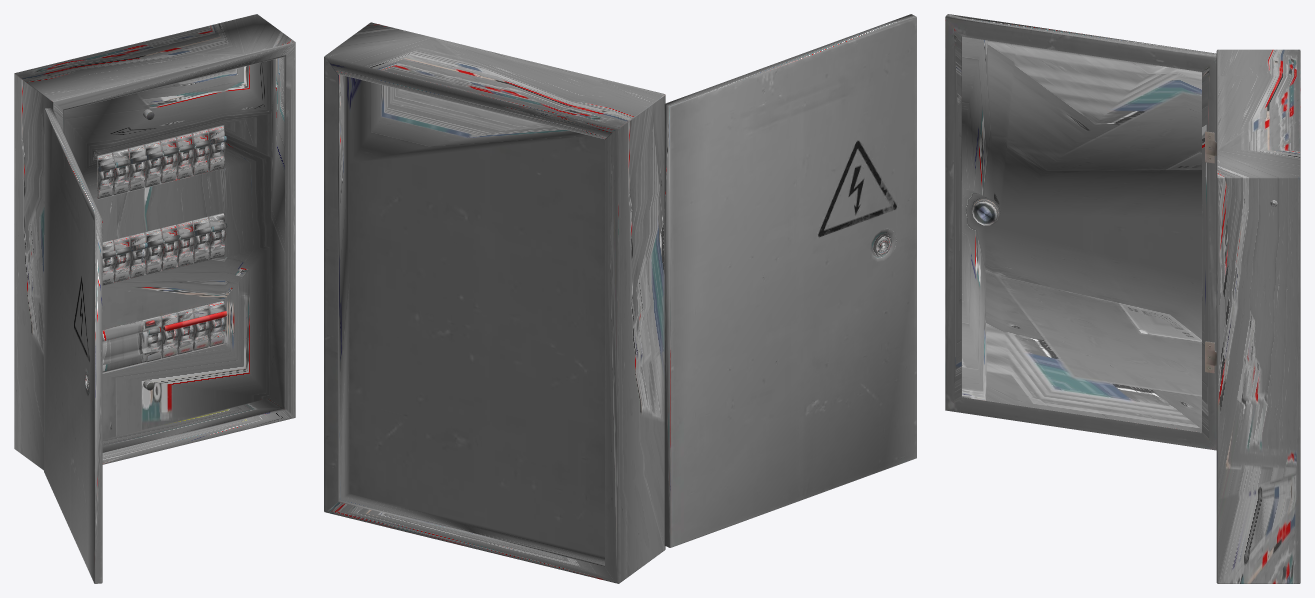
Rendered from power_box_01.glb.
3 renders of one model, left to right at view 1: azimuth 30°, elevation 25°; view 2: azimuth 150°, elevation 25°; view 3: azimuth 270°, elevation 25°, orthographic. The views are drawn at different scales.
Parts seen in each view (by area): view 1: power_box_01_box, power_box_01_door; view 2: power_box_01_box, power_box_01_door; view 3: power_box_01_door, power_box_01_box.
Part boxes in pixels (x1,y1,x2,y2): power_box_01_box: (14,14,295,470); power_box_01_door: (44,108,102,583); power_box_01_box: (324,22,665,583); power_box_01_door: (664,14,916,547); power_box_01_door: (945,14,1216,450); power_box_01_box: (1216,49,1300,583).
Bounding box in the file's own units: 0.461 × 0.5031 × 0.399.
1 material, 1 textured.
